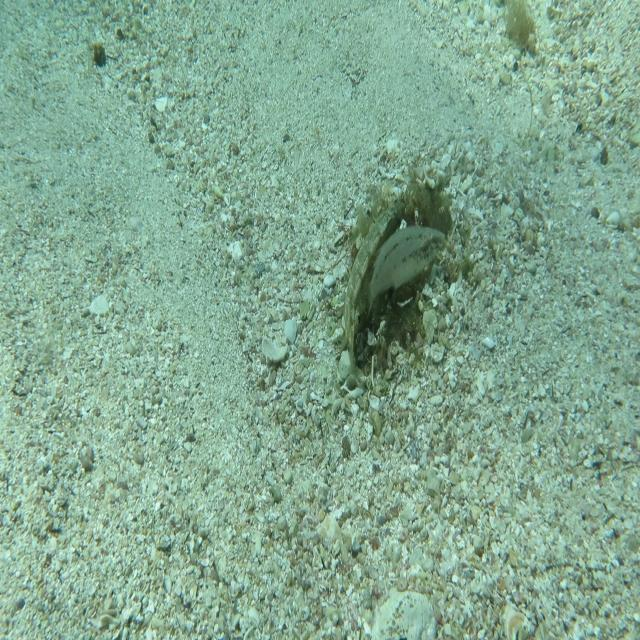ROLL: (343, 193, 410, 385)
female: (361, 222, 447, 324)
nest: (330, 159, 467, 391)
